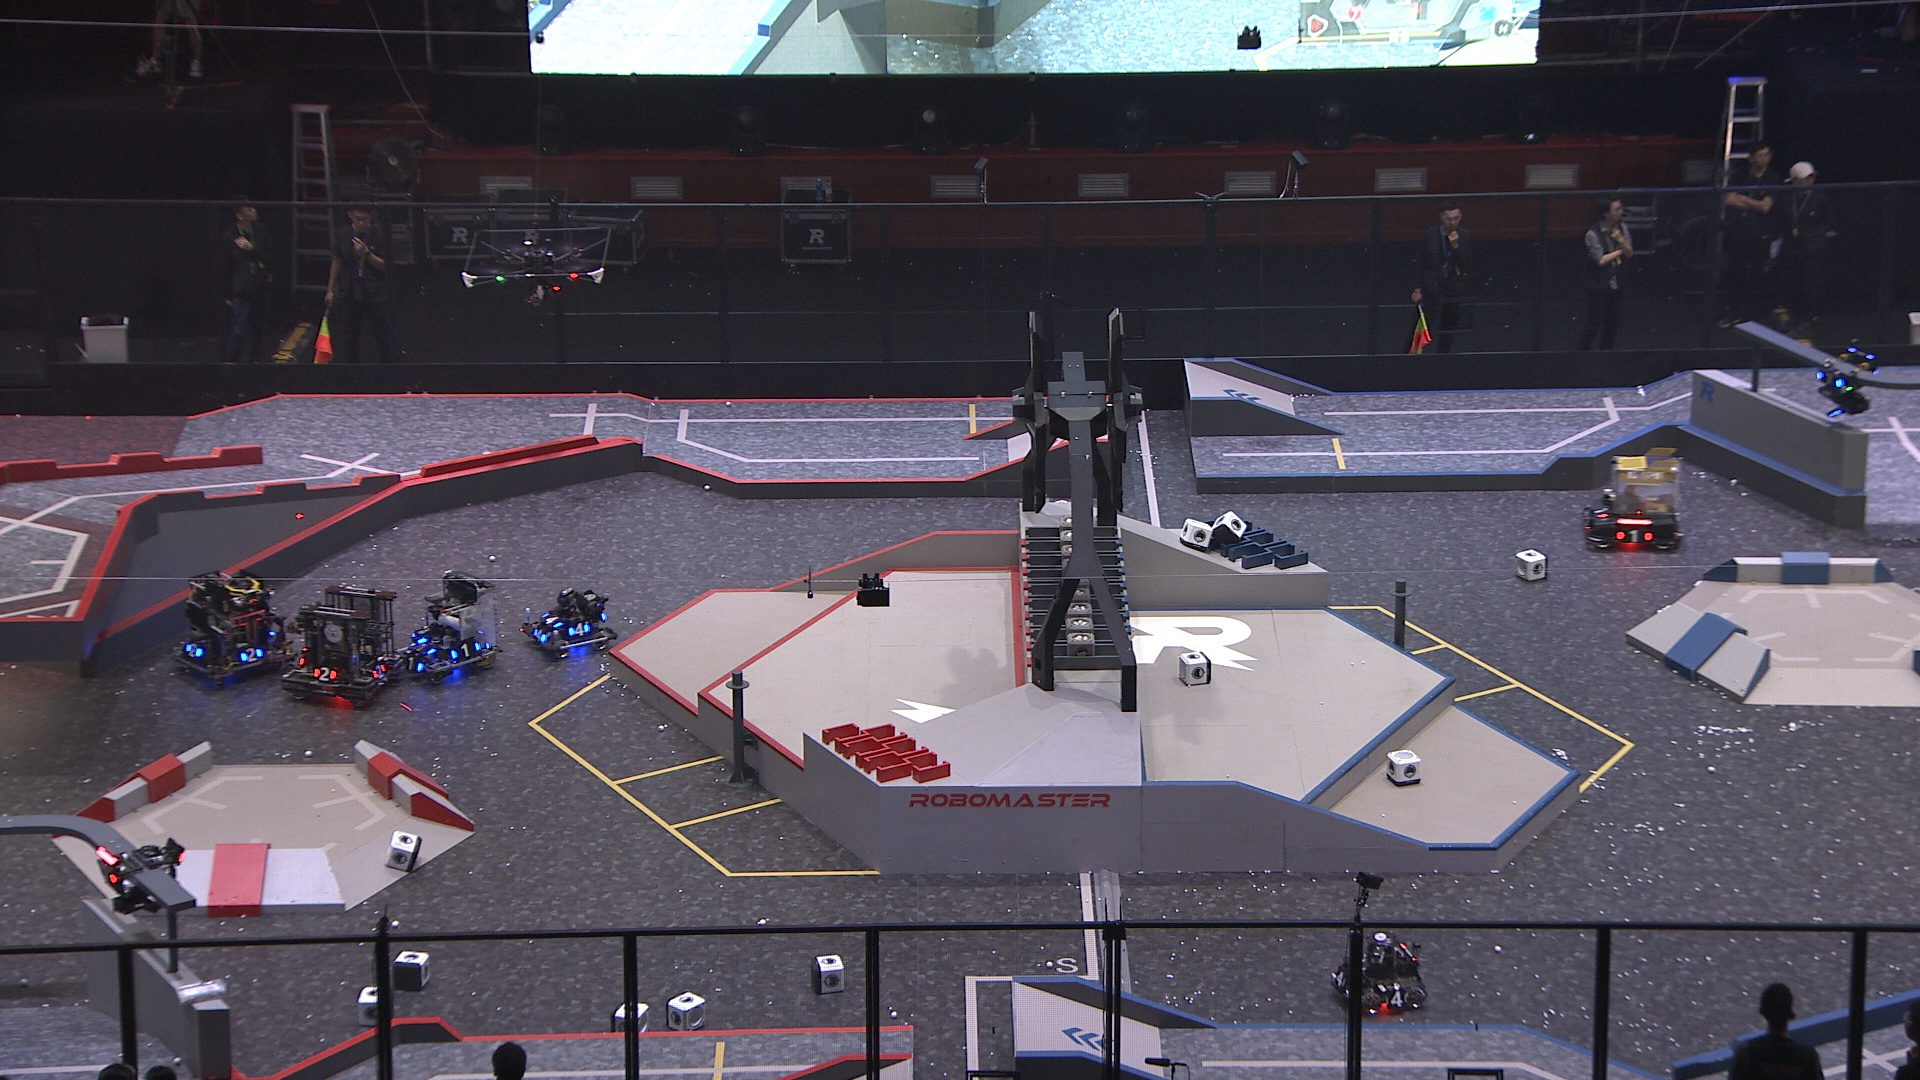armor: (446, 641, 481, 662), (1817, 367, 1847, 390), (96, 858, 120, 887), (1613, 527, 1654, 543), (237, 645, 266, 665), (564, 618, 593, 638), (401, 651, 425, 675), (310, 666, 338, 684), (368, 659, 389, 683), (1385, 989, 1410, 1007), (1331, 967, 1348, 992), (409, 629, 434, 646), (182, 641, 204, 659), (1589, 501, 1607, 522), (531, 622, 550, 644), (542, 613, 564, 629)
car: (169, 566, 305, 695), (280, 583, 406, 699), (1581, 443, 1689, 559), (394, 575, 506, 680), (1324, 928, 1425, 1021), (517, 582, 621, 665)
watcher: (91, 832, 190, 916), (1812, 338, 1883, 419)
